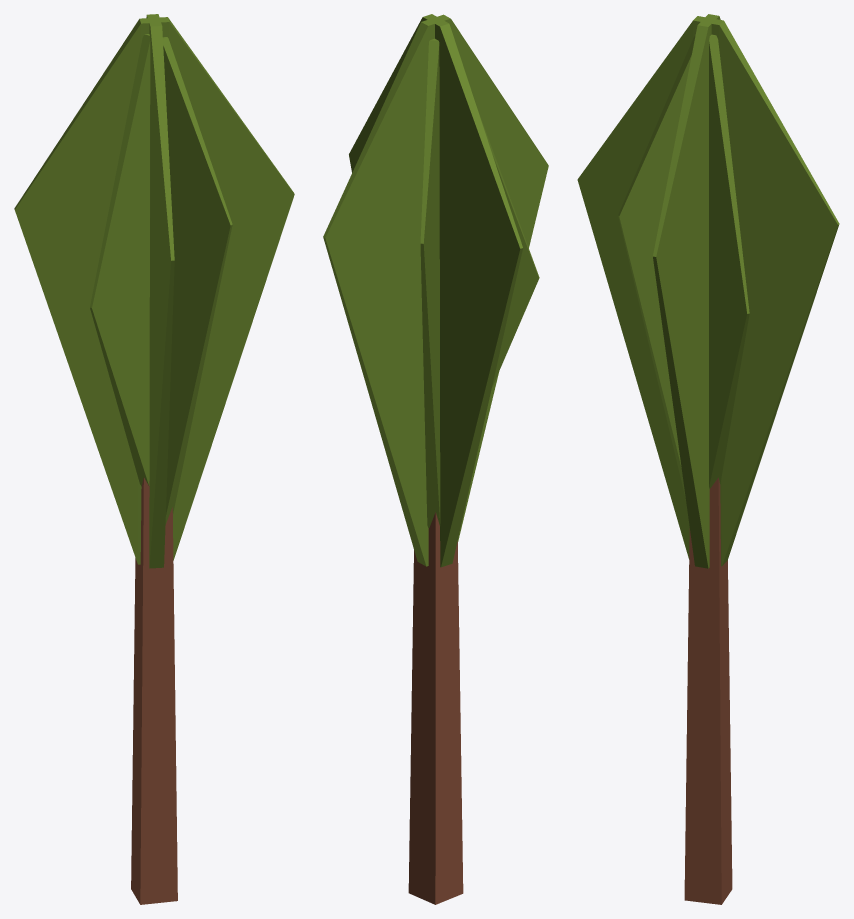
The model's file is Tree_33_autumn_mat.fbx.
The picture shows the model from 3 angles, left to right: view 1: azimuth 30°, elevation 25°; view 2: azimuth 150°, elevation 25°; view 3: azimuth 270°, elevation 25°; orthographic projection.
Visible parts, largest first — view 1: Tree_33_autumn_mat; view 2: Tree_33_autumn_mat; view 3: Tree_33_autumn_mat.
Part boxes in pixels (left/top/right/bottom): Tree_33_autumn_mat: left=14, top=14, right=294, bottom=904; Tree_33_autumn_mat: left=323, top=14, right=548, bottom=904; Tree_33_autumn_mat: left=577, top=14, right=839, bottom=904.
Size of the model in its own units: 3.38 by 12.46 by 3.38.
